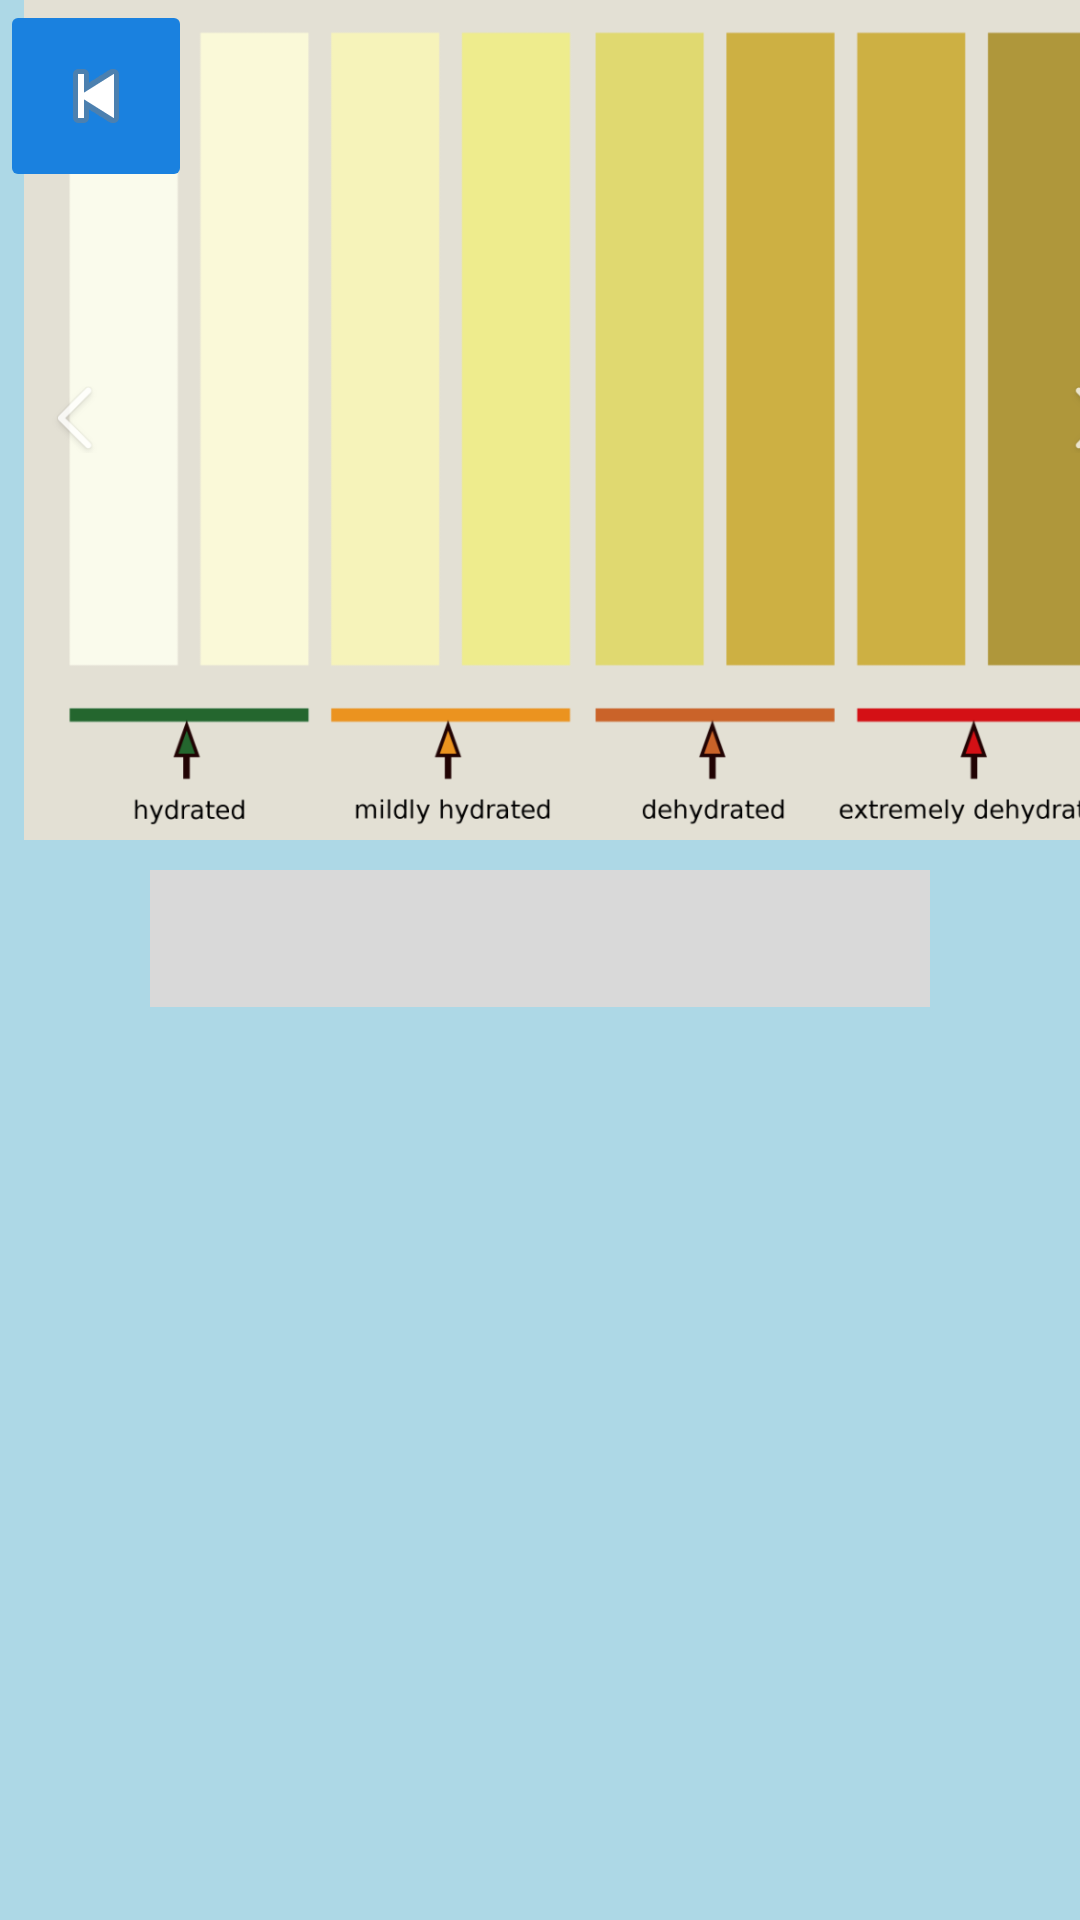

Named icons in this screenshot (1080w x 1920h) and their centers, (x=x, y=y):
previous: (x=90, y=96)
